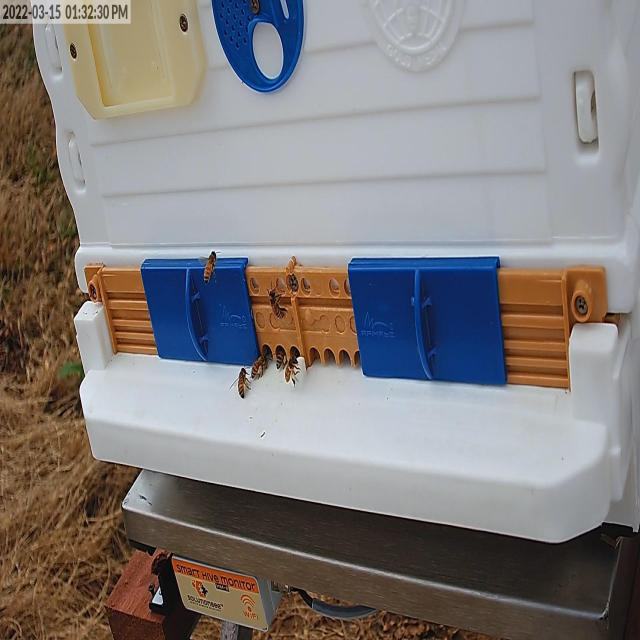honeybee: (266, 286, 291, 326), (201, 242, 219, 284), (284, 350, 303, 384), (252, 348, 274, 376), (234, 367, 250, 404), (273, 343, 284, 368)
